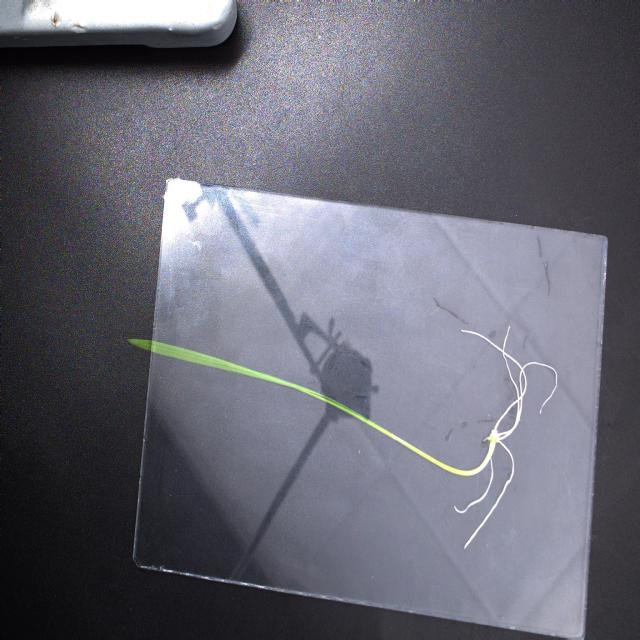leaf: (127, 337, 357, 422)
root: (451, 323, 559, 549)
stem: (355, 413, 492, 478)
